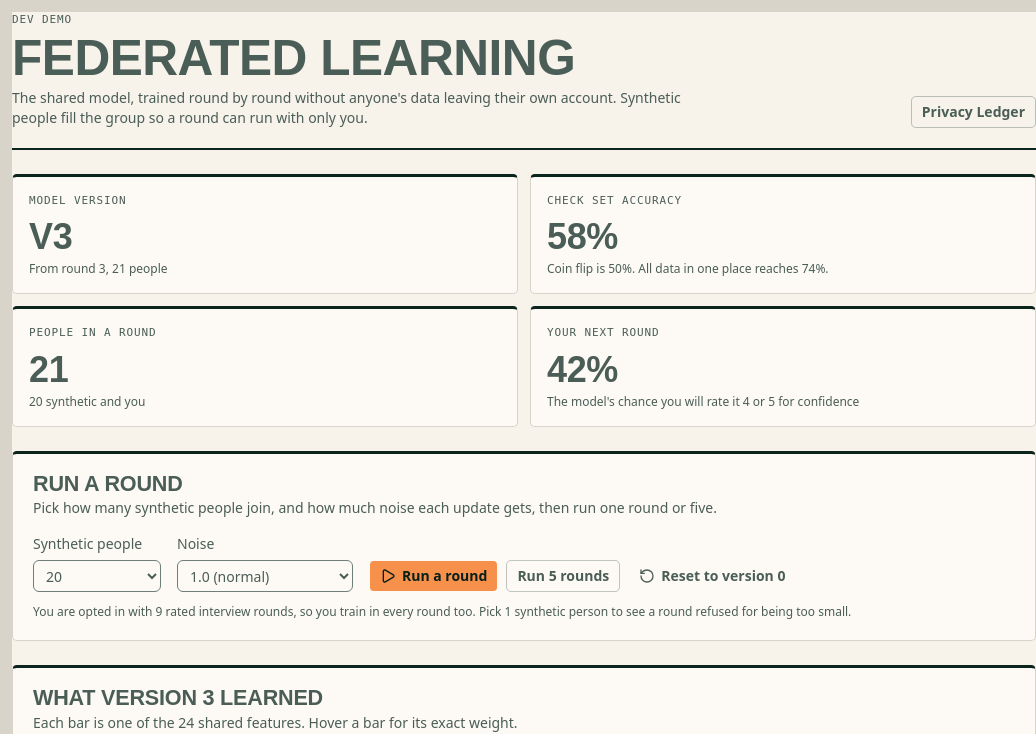
Test case: FederatedLearningDemoPage › says when a round could not reach the federated learning service
The width and height of the screenshot is (1036, 734).
Click the button "Run a round": [434, 576] box [369,560,498,592]
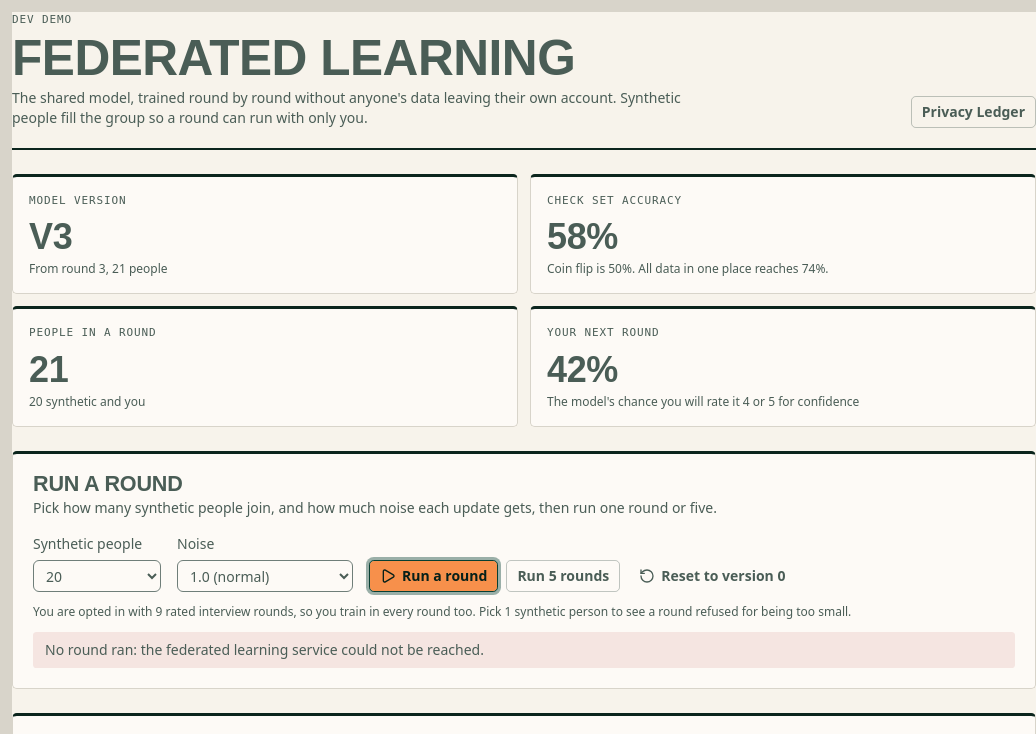
Now the text "No round ran: the federated learning service could not be reached." is shown, box [33,632,1015,668]
